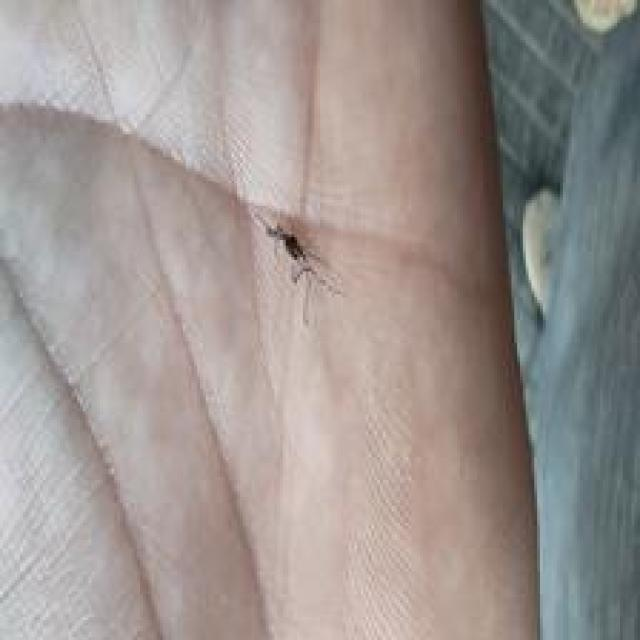Aedes albopictus: (250, 208, 344, 326)
